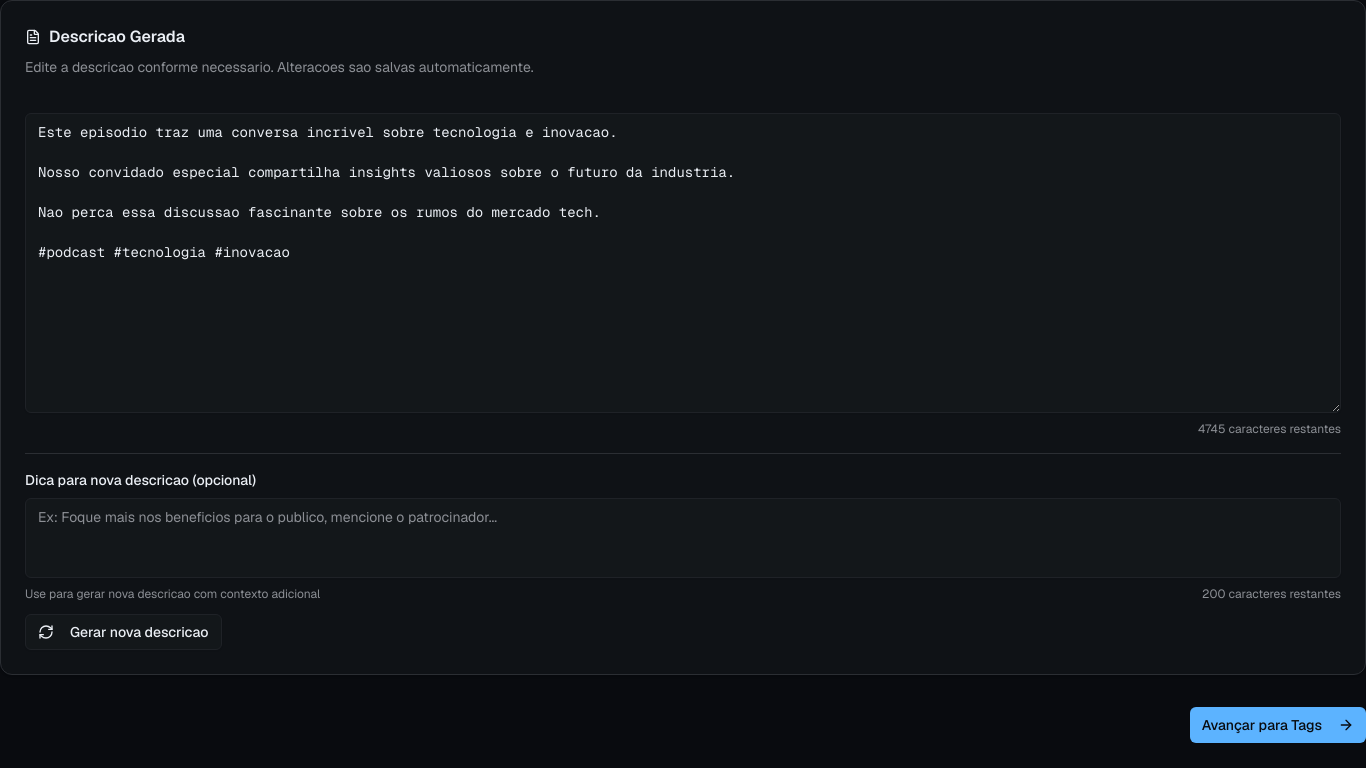
Test: Phase6Description › Revalidation › shows confirmation dialog when revalidate is clicked
Click the button "Gerar nova descricao": [123, 632] box x1=25 y1=614 x2=222 y2=650
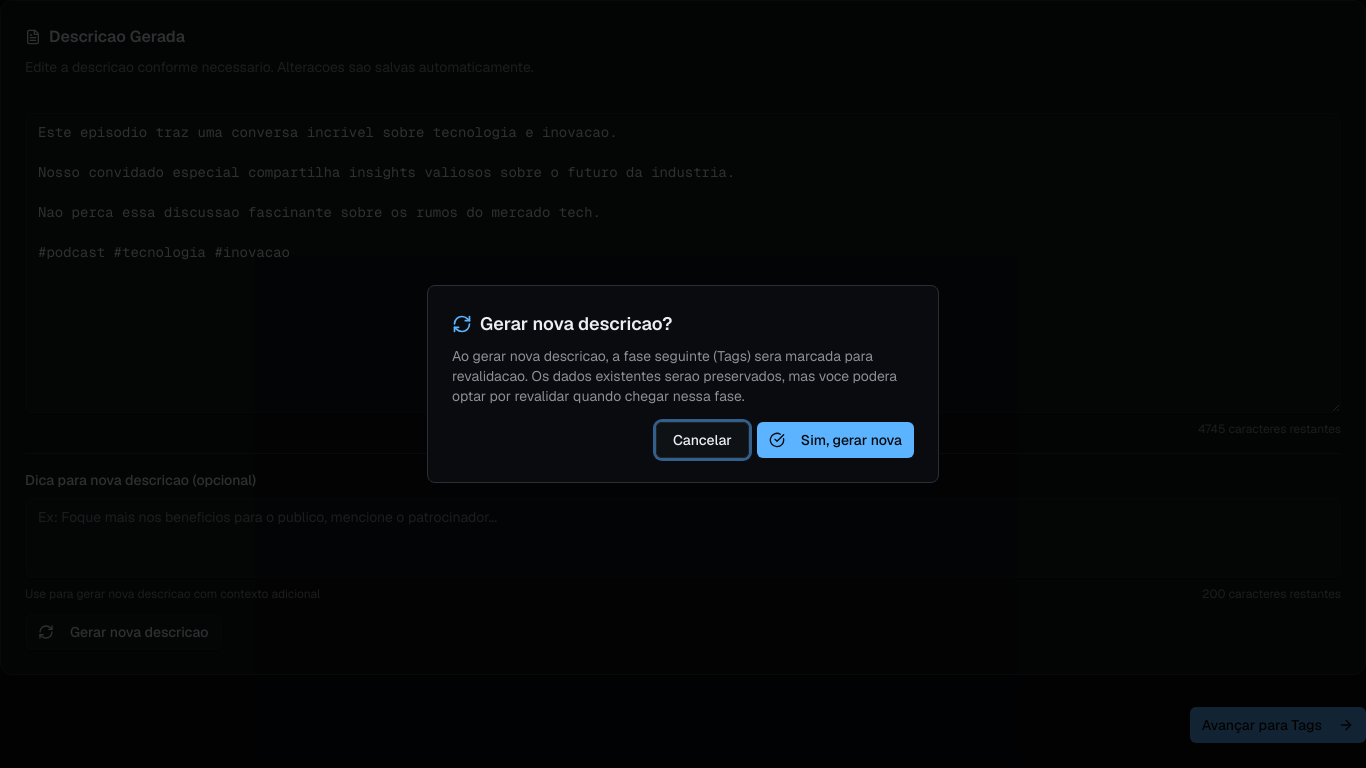
Result: the heading "Gerar nova descricao?" is shown at x1=452 y1=312 x2=672 y2=335
